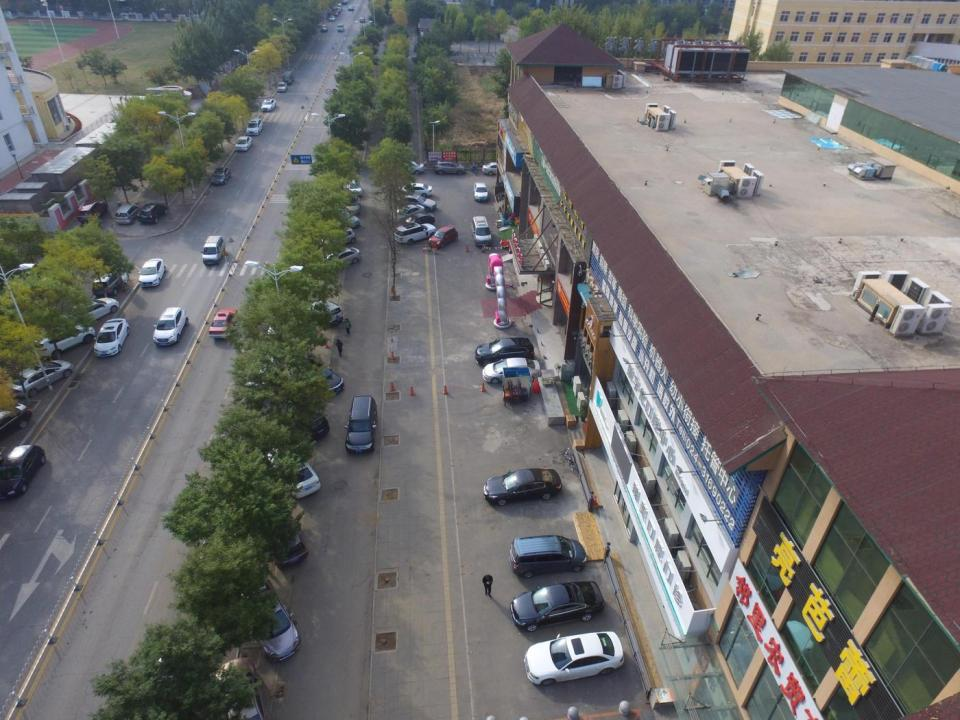car: (525, 630, 624, 685), (238, 580, 300, 661), (512, 578, 600, 632), (246, 496, 307, 566), (512, 534, 586, 580), (1, 357, 72, 402), (215, 657, 265, 720), (265, 444, 321, 498), (483, 468, 558, 508), (27, 318, 92, 362), (0, 443, 48, 496), (288, 358, 344, 396), (274, 402, 329, 440), (60, 297, 118, 332), (346, 395, 376, 455), (474, 338, 535, 366), (482, 357, 542, 384), (0, 402, 34, 439), (154, 307, 187, 344), (94, 318, 127, 355), (93, 269, 128, 297), (394, 223, 437, 245), (137, 258, 167, 289), (209, 308, 237, 341), (395, 212, 434, 234), (324, 246, 359, 269), (307, 300, 342, 323), (77, 200, 108, 224), (390, 203, 423, 225), (428, 225, 457, 250), (136, 202, 166, 226), (397, 195, 436, 211), (331, 208, 360, 228), (327, 226, 356, 246), (115, 204, 143, 224), (432, 160, 466, 176), (399, 183, 433, 199), (210, 165, 230, 185), (343, 194, 361, 216), (483, 161, 509, 175), (397, 161, 423, 174), (232, 136, 251, 151), (474, 182, 488, 202), (346, 179, 362, 196), (246, 118, 260, 137), (260, 98, 276, 114), (275, 80, 287, 93), (320, 24, 328, 32), (359, 16, 365, 22), (348, 5, 354, 10), (333, 10, 338, 16), (329, 16, 334, 21)
van: (202, 235, 226, 266), (471, 217, 492, 250), (281, 72, 294, 84), (338, 24, 344, 32)
